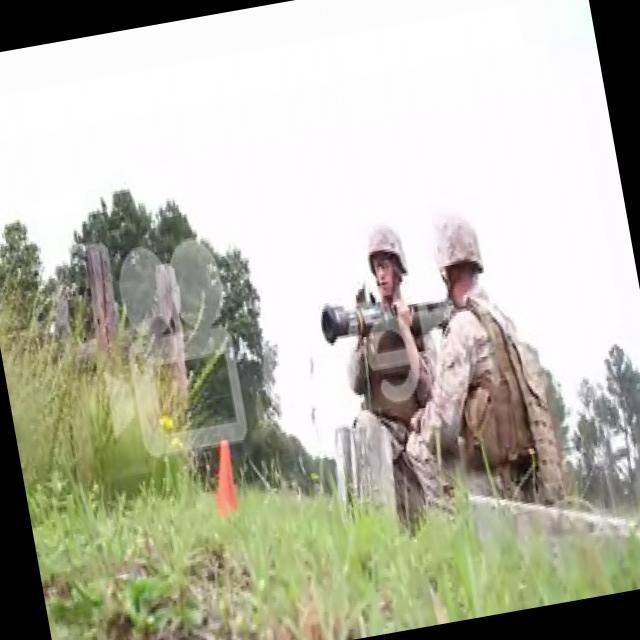rocket: (318, 284, 457, 357)
